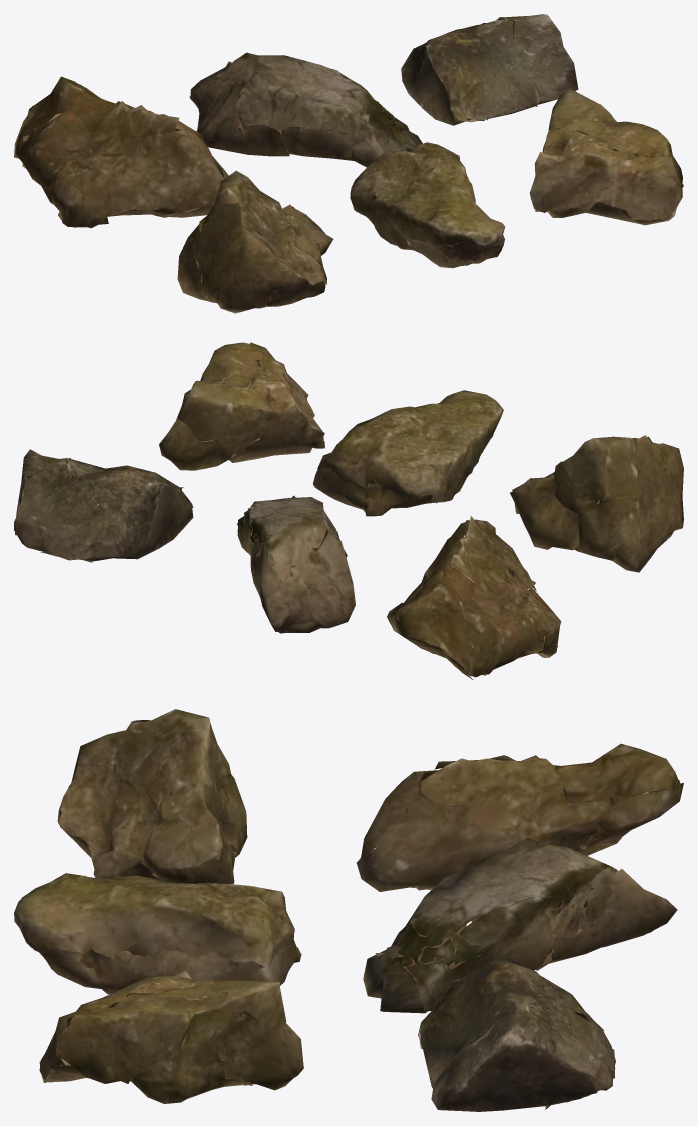
File: rocks1_lo.glb
The picture shows the model from 3 angles, top to bottom: view 1: azimuth 30°, elevation 25°; view 2: azimuth 150°, elevation 25°; view 3: azimuth 270°, elevation 25°; orthographic projection. The views are drawn at different scales.
Parts seen in each view (by area): view 1: rock_moss_set_01_rock01, rock_moss_set_01_rock02, rock_moss_set_01_rock06, rock_moss_set_01_rock04, rock_moss_set_01_rock03, rock_moss_set_01_rock05; view 2: rock_moss_set_01_rock04, rock_moss_set_01_rock01, rock_moss_set_01_rock05, rock_moss_set_01_rock03, rock_moss_set_01_rock06, rock_moss_set_01_rock02; view 3: rock_moss_set_01_rock01, rock_moss_set_01_rock02, rock_moss_set_01_rock05, rock_moss_set_01_rock04, rock_moss_set_01_rock06, rock_moss_set_01_rock03.
Boxes of the visible parts, left/top/right/bottom form: rock_moss_set_01_rock01: left=14, top=76, right=228, bottom=228; rock_moss_set_01_rock02: left=189, top=52, right=422, bottom=167; rock_moss_set_01_rock06: left=529, top=88, right=683, bottom=225; rock_moss_set_01_rock04: left=177, top=170, right=333, bottom=313; rock_moss_set_01_rock03: left=401, top=14, right=578, bottom=125; rock_moss_set_01_rock05: left=350, top=142, right=505, bottom=268; rock_moss_set_01_rock04: left=510, top=435, right=683, bottom=572; rock_moss_set_01_rock01: left=387, top=516, right=561, bottom=679; rock_moss_set_01_rock05: left=313, top=390, right=503, bottom=516; rock_moss_set_01_rock03: left=14, top=449, right=193, bottom=562; rock_moss_set_01_rock06: left=159, top=342, right=324, bottom=470; rock_moss_set_01_rock02: left=237, top=495, right=355, bottom=633; rock_moss_set_01_rock01: left=356, top=743, right=683, bottom=891; rock_moss_set_01_rock02: left=363, top=837, right=677, bottom=1013; rock_moss_set_01_rock05: left=14, top=873, right=301, bottom=994; rock_moss_set_01_rock04: left=57, top=709, right=247, bottom=884; rock_moss_set_01_rock06: left=39, top=971, right=303, bottom=1103; rock_moss_set_01_rock03: left=418, top=960, right=615, bottom=1111.
Bounding box in the file's own units: 8.04 × 1.78 × 6.97.
Materials: 1 (1 with a texture image).
